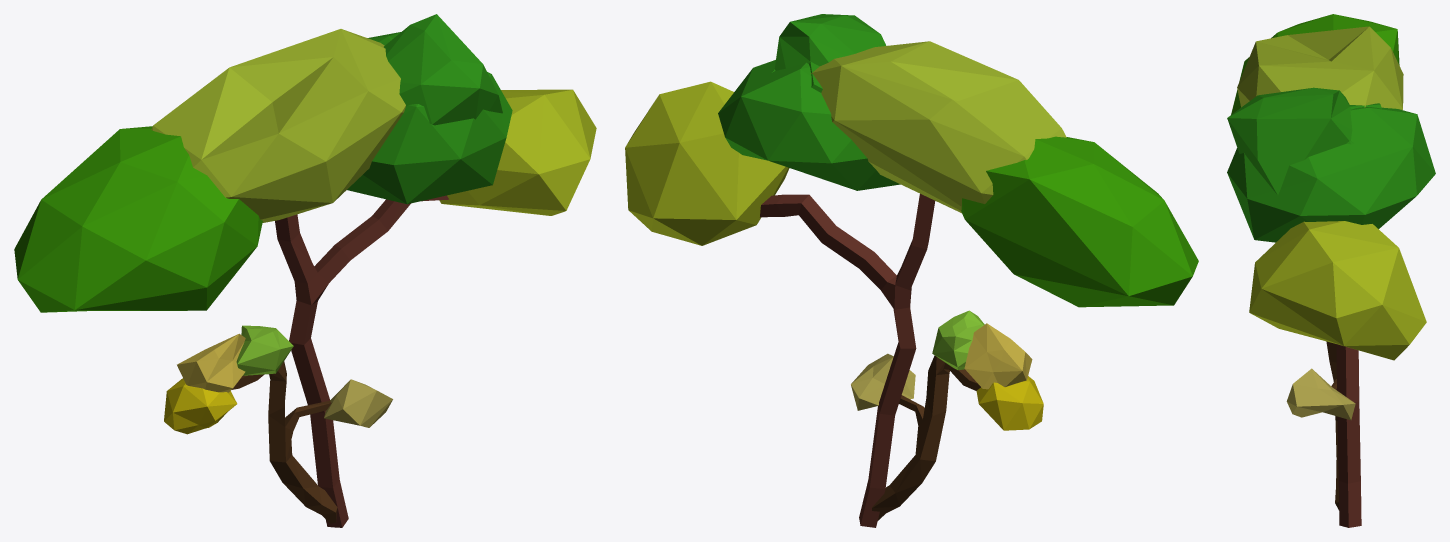
The model's file is oceni2.fbx.
3 views of the same model, side by side, from view 1: azimuth 30°, elevation 25°; view 2: azimuth 150°, elevation 25°; view 3: azimuth 270°, elevation 25° (orthographic). The views are drawn at different scales.
Visible parts, largest first — view 1: Икосфера.033, Икосфера.034, Икосфера.036, Икосфера.035, Куб.003, Икосфера.067, Куб.005, Икосфера.045, Икосфера.047, Икосфера.046, Икосфера.044; view 2: Икосфера.033, Икосфера.034, Икосфера.036, Икосфера.035, Куб.003, Куб.005, Икосфера.067, Икосфера.047, Икосфера.045, Икосфера.046, Икосфера.044; view 3: Икосфера.036, Икосфера.035, Икосфера.034, Икосфера.067, Куб.003, Икосфера.044, Икосфера.033, Куб.005.
Part boxes in pixels (x1=…): Икосфера.033: x1=14, y1=126, x2=262, y2=312; Икосфера.034: x1=151, y1=29, x2=405, y2=222; Икосфера.036: x1=439, y1=89, x2=596, y2=215; Икосфера.035: x1=347, y1=32, x2=512, y2=204; Куб.003: x1=275, y1=195, x2=448, y2=527; Икосфера.067: x1=381, y1=14, x2=502, y2=125; Куб.005: x1=232, y1=361, x2=337, y2=523; Икосфера.045: x1=164, y1=378, x2=237, y2=434; Икосфера.047: x1=177, y1=333, x2=245, y2=392; Икосфера.046: x1=236, y1=325, x2=293, y2=375; Икосфера.044: x1=324, y1=379, x2=392, y2=427; Икосфера.033: x1=961, y1=136, x2=1198, y2=307; Икосфера.034: x1=810, y1=41, x2=1066, y2=213; Икосфера.036: x1=625, y1=81, x2=789, y2=245; Икосфера.035: x1=718, y1=60, x2=900, y2=190; Куб.003: x1=760, y1=193, x2=935, y2=527; Куб.005: x1=872, y1=355, x2=980, y2=520; Икосфера.067: x1=771, y1=14, x2=886, y2=92; Икосфера.047: x1=964, y1=323, x2=1032, y2=389; Икосфера.045: x1=976, y1=376, x2=1043, y2=430; Икосфера.046: x1=932, y1=310, x2=984, y2=370; Икосфера.044: x1=851, y1=353, x2=915, y2=410; Икосфера.036: x1=1249, y1=221, x2=1426, y2=360; Икосфера.035: x1=1227, y1=107, x2=1435, y2=242; Икосфера.034: x1=1237, y1=26, x2=1403, y2=109; Икосфера.067: x1=1227, y1=87, x2=1381, y2=194; Куб.003: x1=1336, y1=344, x2=1361, y2=527; Икосфера.044: x1=1286, y1=368, x2=1355, y2=420; Икосфера.033: x1=1231, y1=14, x2=1399, y2=114; Куб.005: x1=1326, y1=341, x2=1338, y2=509.
Size of the model in its own units: 606 by 495 by 197.
